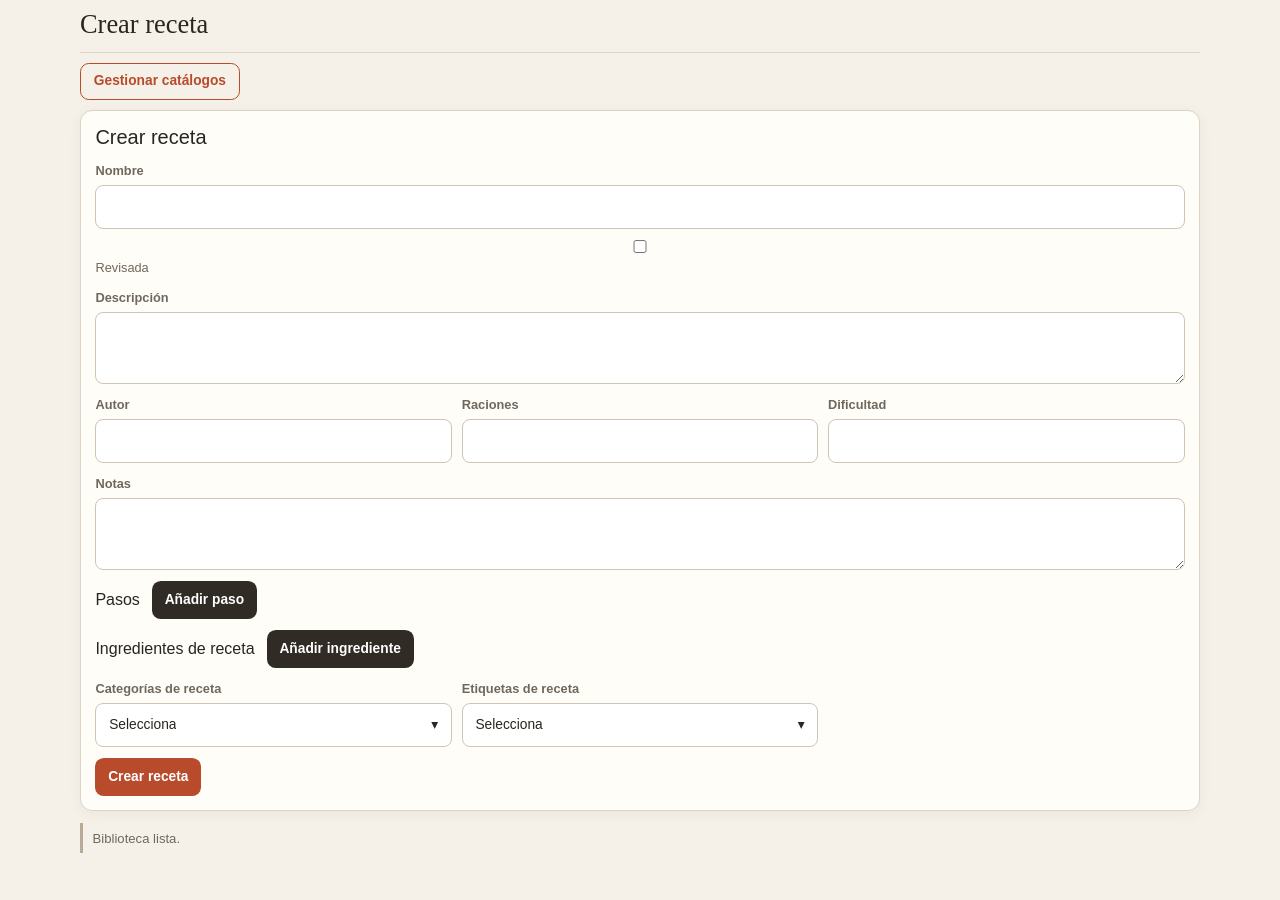
Scenario: creates recipes with explicitly selected reviewed status false
expect the text "Biblioteca lista." is shown: met, box [80, 823, 1200, 853]
expect the checkbox labelled "Revisada" is not checked: met, box [95, 240, 1185, 253]
In the field labelled "Nombre": (640, 207) [95, 185, 1185, 229], type "Nueva receta"
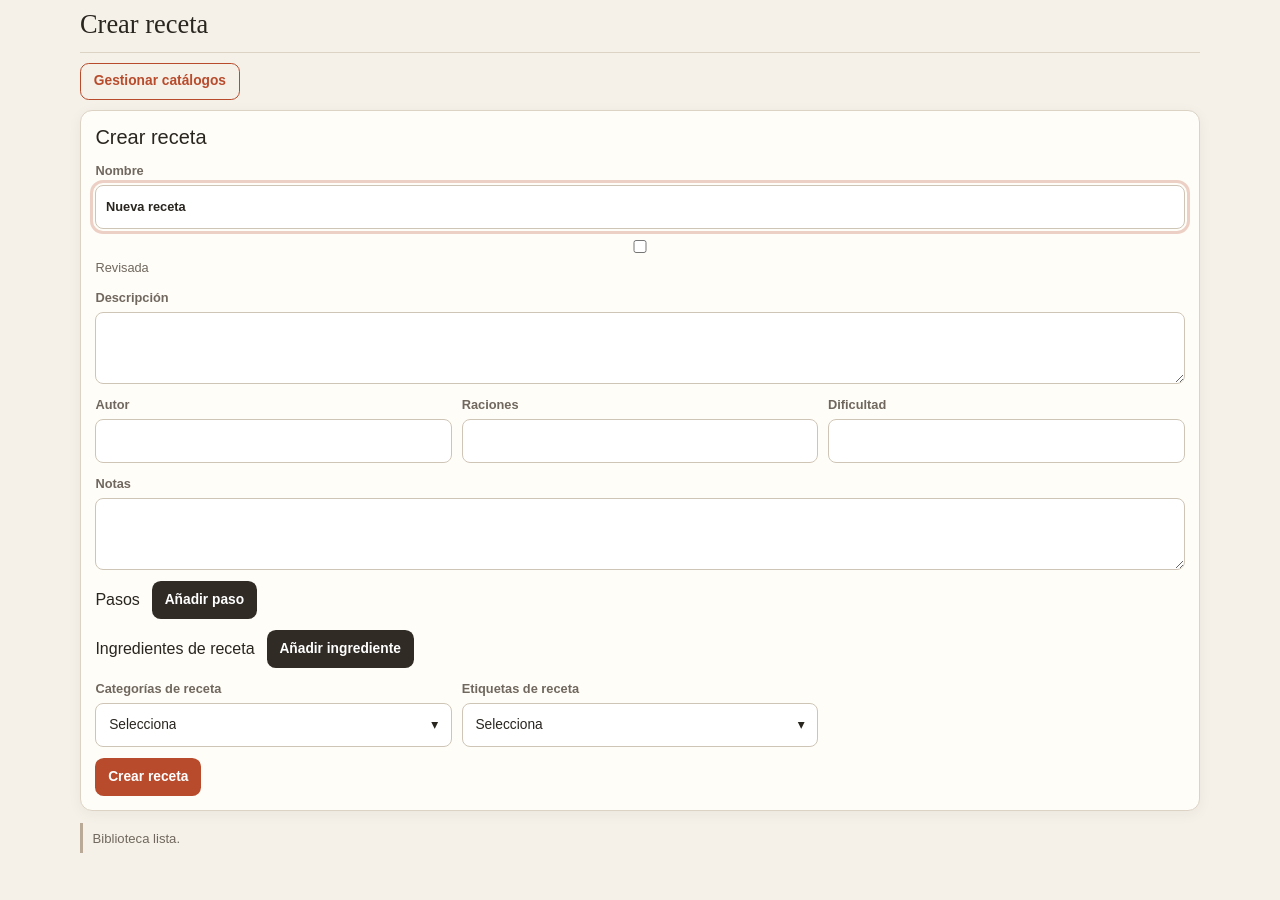
Click the button "Crear receta": click(148, 777) [95, 758, 201, 796]
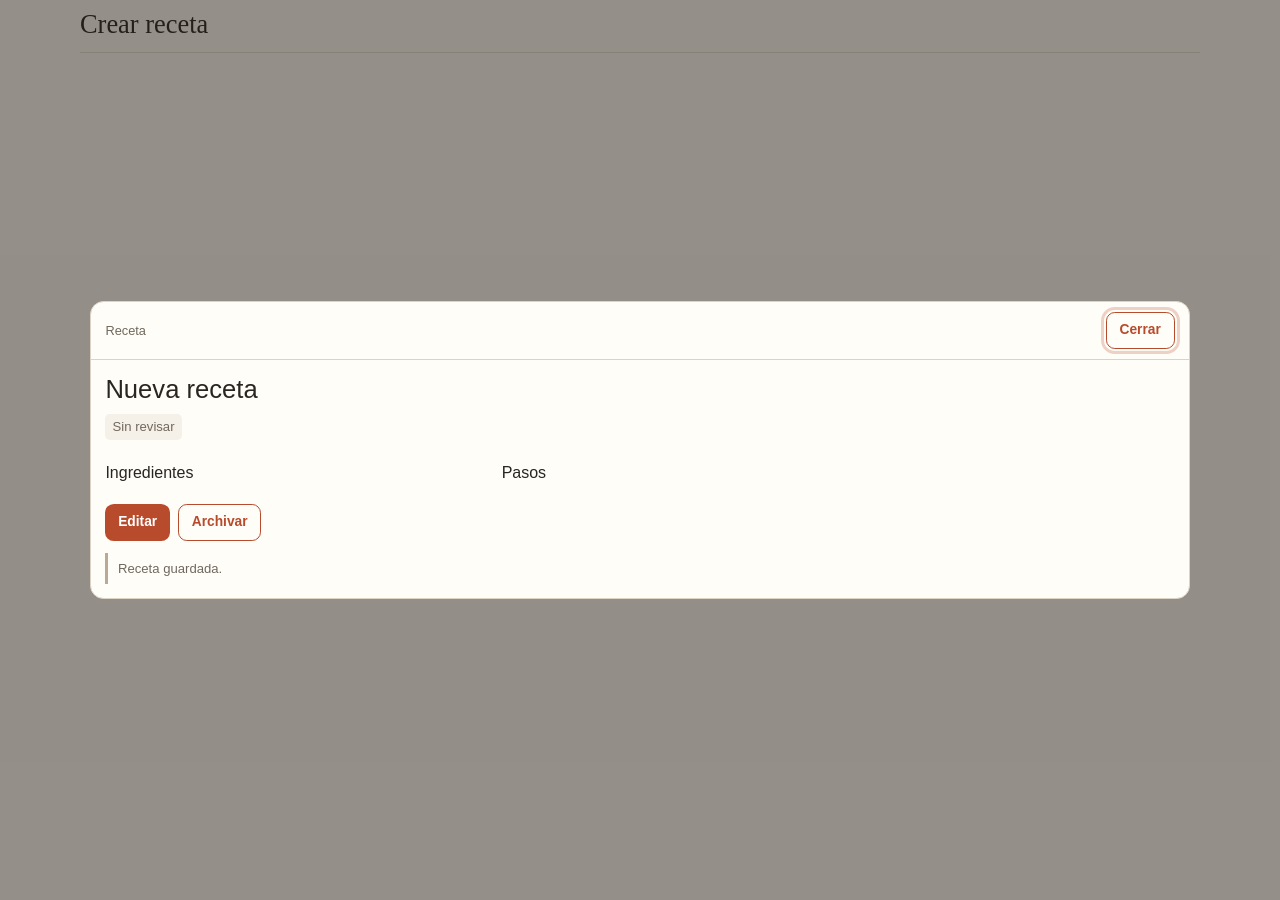
expect the text "Receta guardada." is shown: met, box [105, 553, 1175, 584]
expect the text "Sin revisar" is shown: met, box [105, 414, 182, 440]
